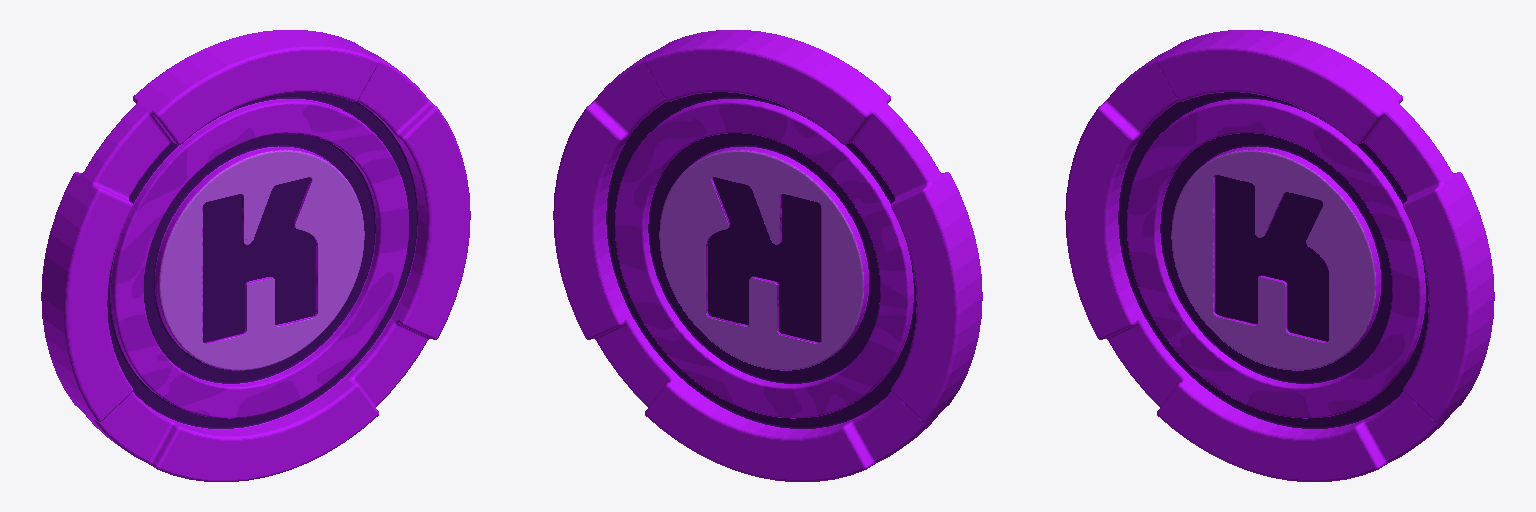
3 renders of one model, left to right at view 1: azimuth 30°, elevation 25°; view 2: azimuth 150°, elevation 25°; view 3: azimuth 330°, elevation 25°, orthographic.
Parts seen in each view (by area): view 1: v1_Mesh; view 2: v1_Mesh; view 3: v1_Mesh.
Boxes of the visible parts, x1,y1,x2,y2 form: v1_Mesh: [41, 30, 470, 481]; v1_Mesh: [553, 30, 982, 481]; v1_Mesh: [1065, 30, 1494, 481].
Bounding box in the file's own units: 1.8 × 1.8 × 0.1996.
Materials: 1 (1 with a texture image).